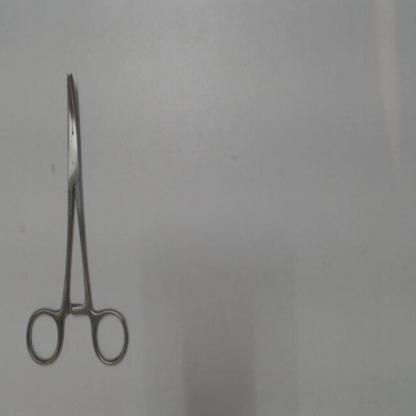Crile Artery Forceps: (22, 69, 136, 371)
